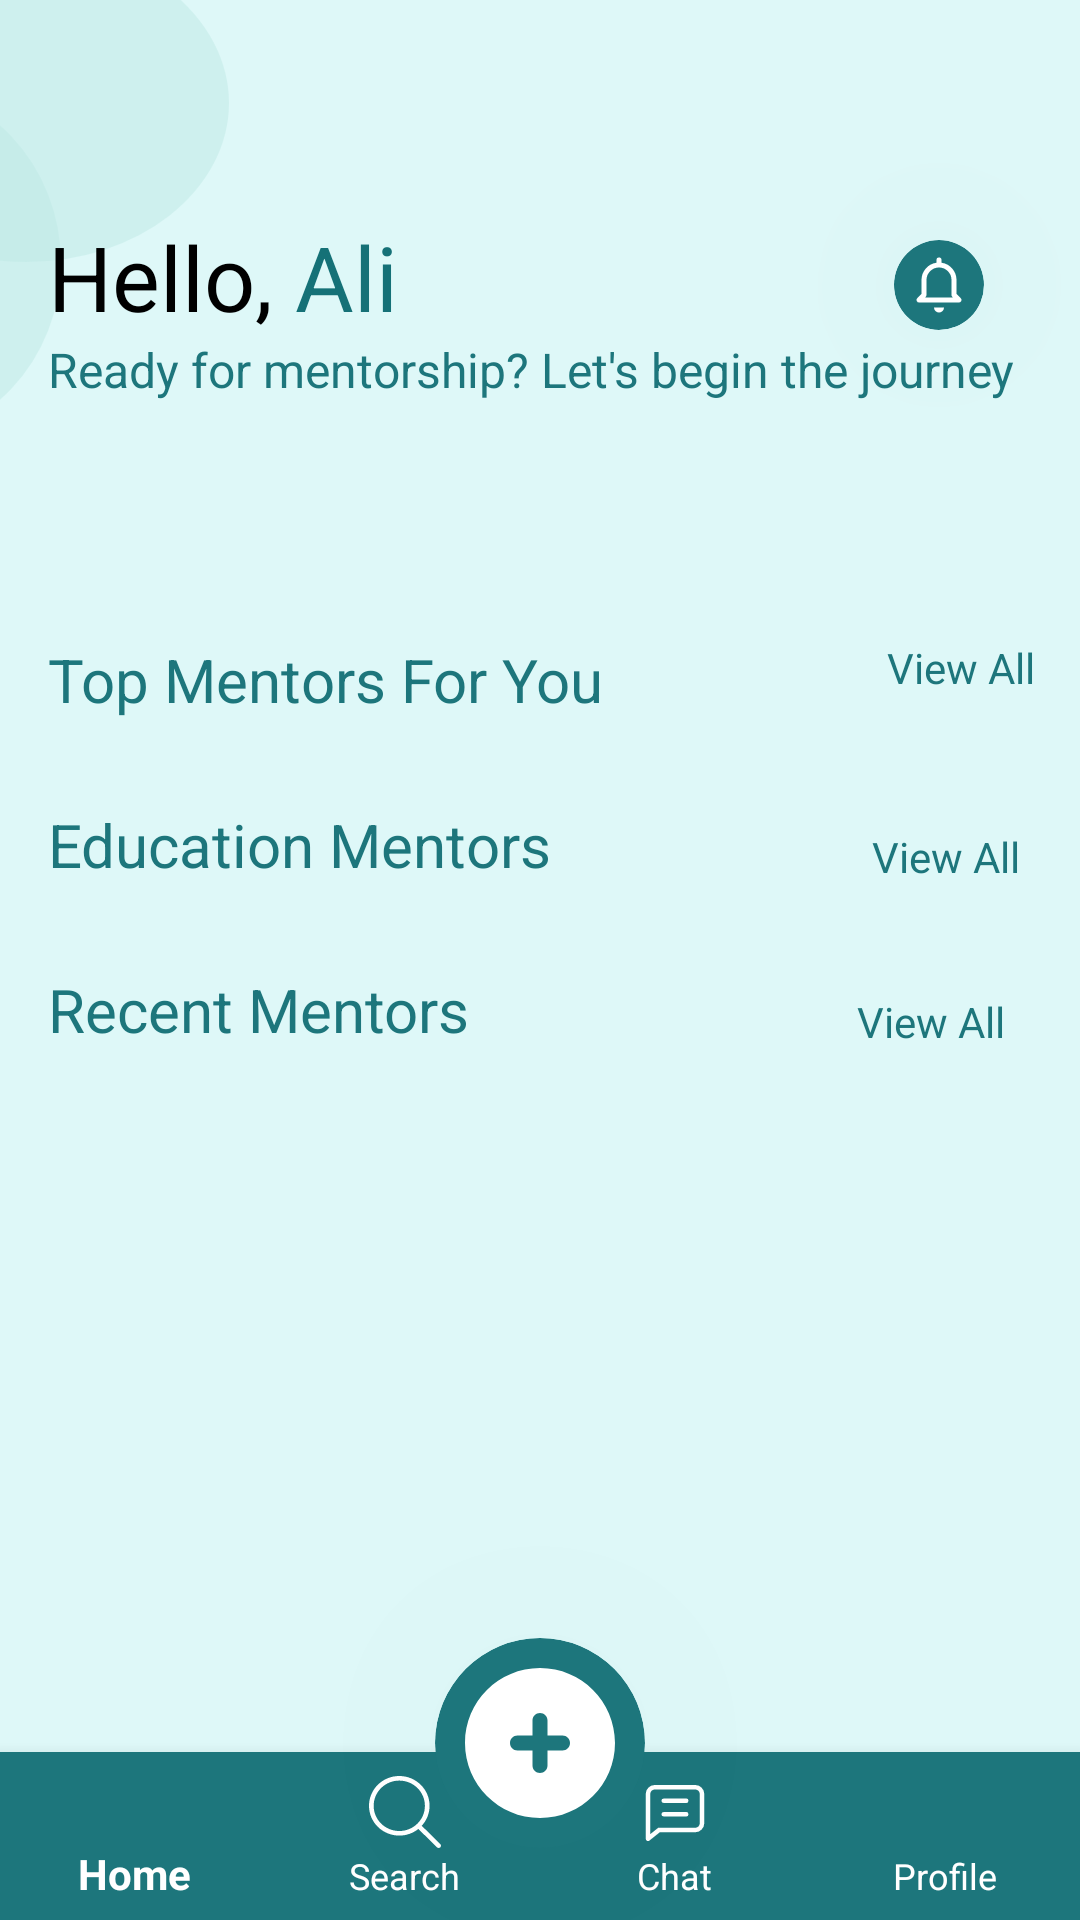

Screen size 1080*1920. Icon name, then its center in pixels as (x=x, y=y):
notification: (x=939, y=285)
plussvg: (x=540, y=1743)
